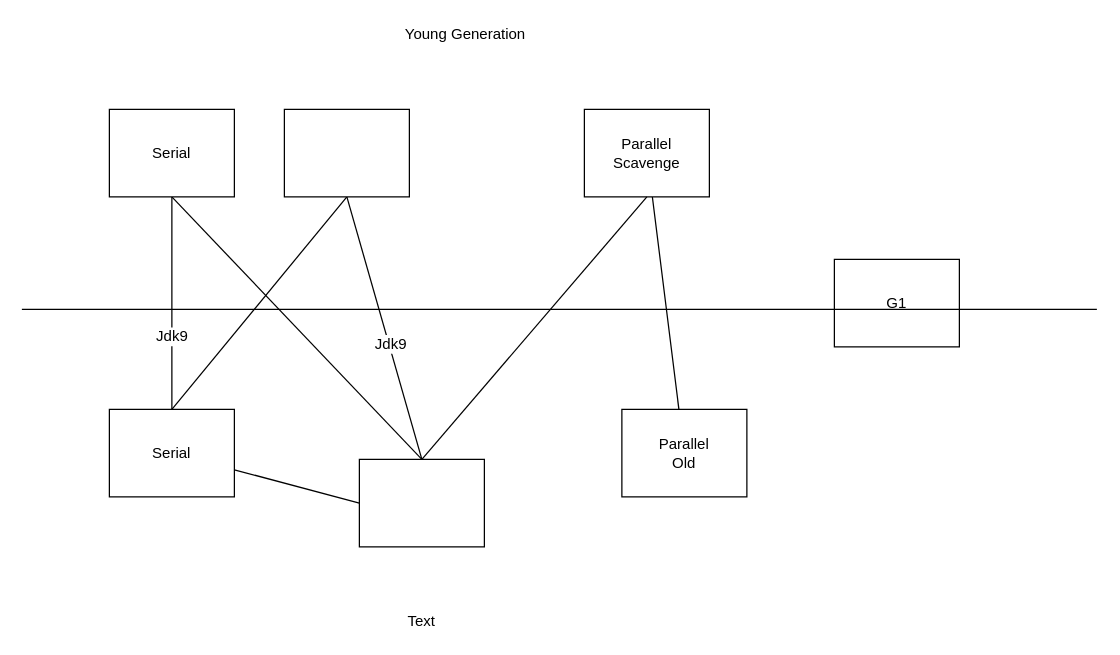
The diagram is 1120 pixels wide and 655 high, and some of its shapes have lost their labels. The centre of each missing label's shape, as x and y in pixels:
ParNew: the point at 346,152
Serial old (MSC): the point at 421,502
